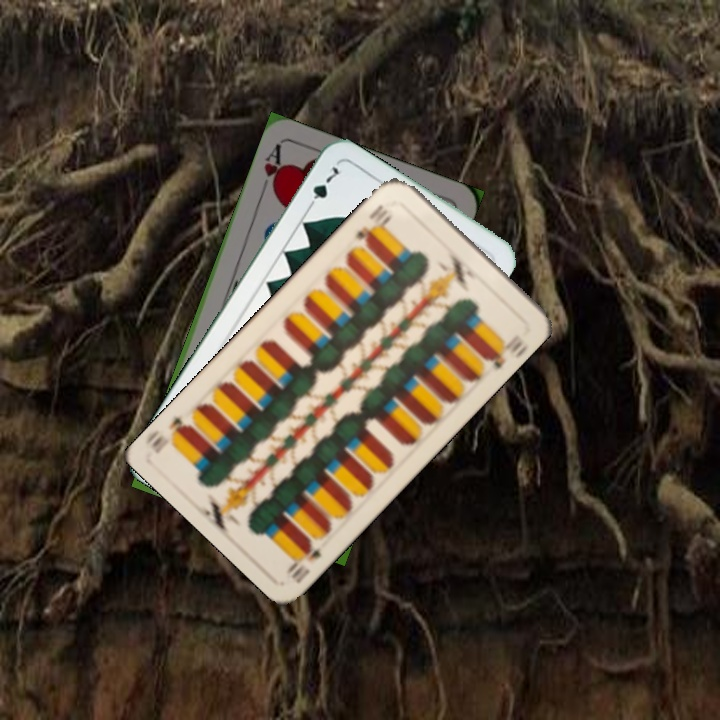E10: (282, 536, 324, 586), (351, 200, 392, 247)
G7: (302, 162, 342, 214)
HA: (256, 140, 287, 198)
